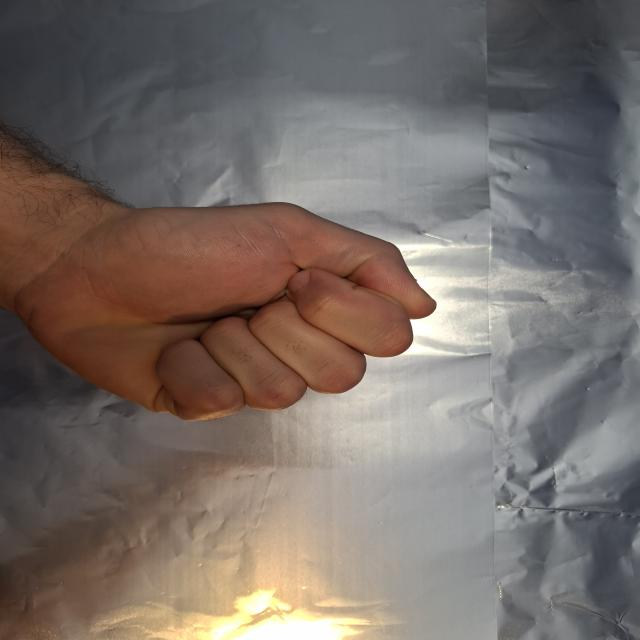glove_off: (19, 178, 440, 424)
